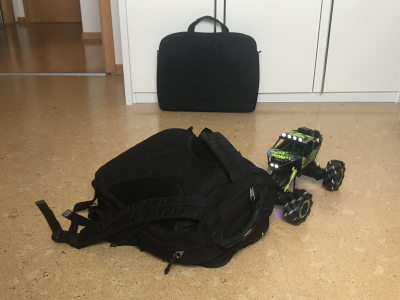remote control car: (249, 124, 348, 227)
